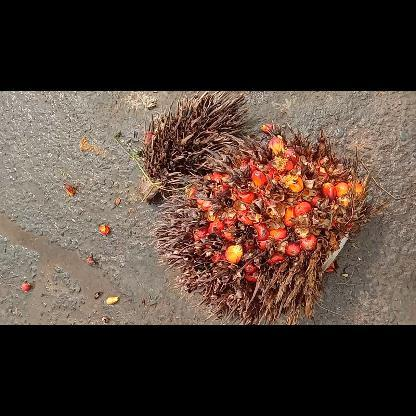Janjang kosong: (134, 90, 250, 200)
Terlalu masak: (149, 122, 385, 324)
